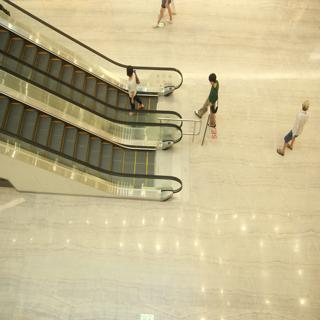person: (279, 96, 320, 163), (200, 66, 231, 141), (120, 63, 153, 118)
